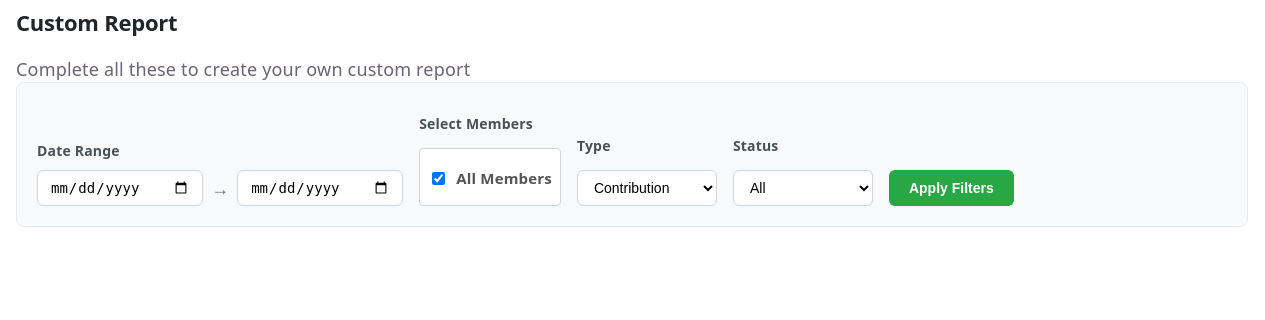
Test: CustomView Page › shows error message when analytics fetch fails
Type "2026-01-01" into the 1st date field at (120, 188), box [37, 170, 203, 206]
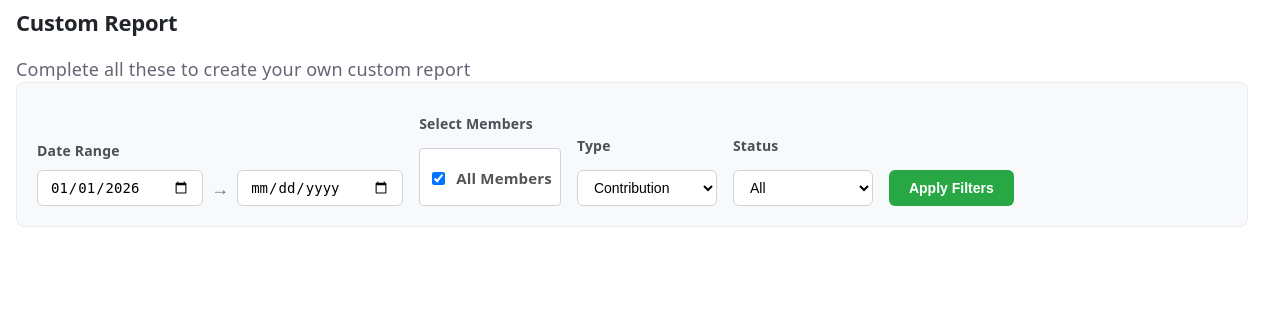
Type "2026-06-01" into the 2nd date field at (320, 188), box [237, 170, 403, 206]
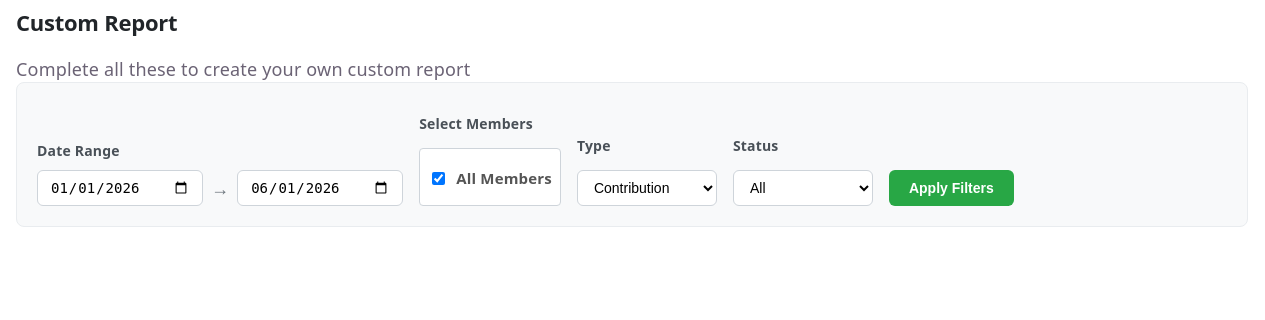
Click the button "Apply Filters" at (951, 188), box [889, 170, 1014, 206]
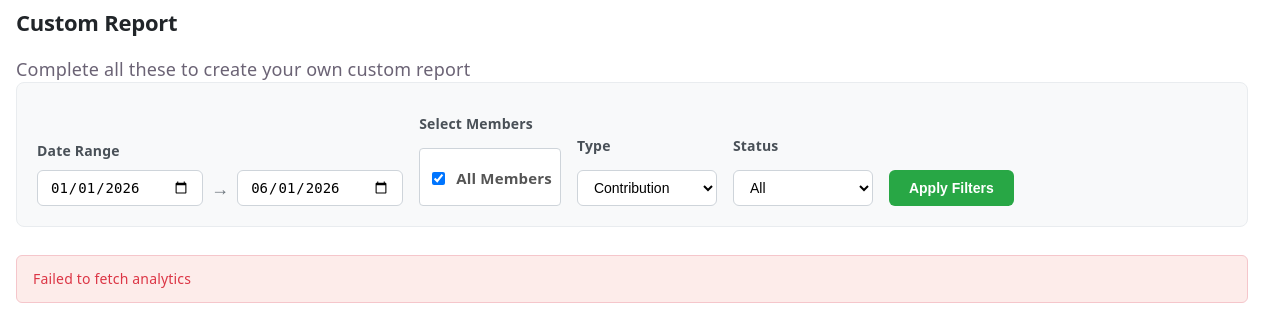
Expected: the text "Failed to fetch analytics" is shown, [16, 255, 1248, 303]
